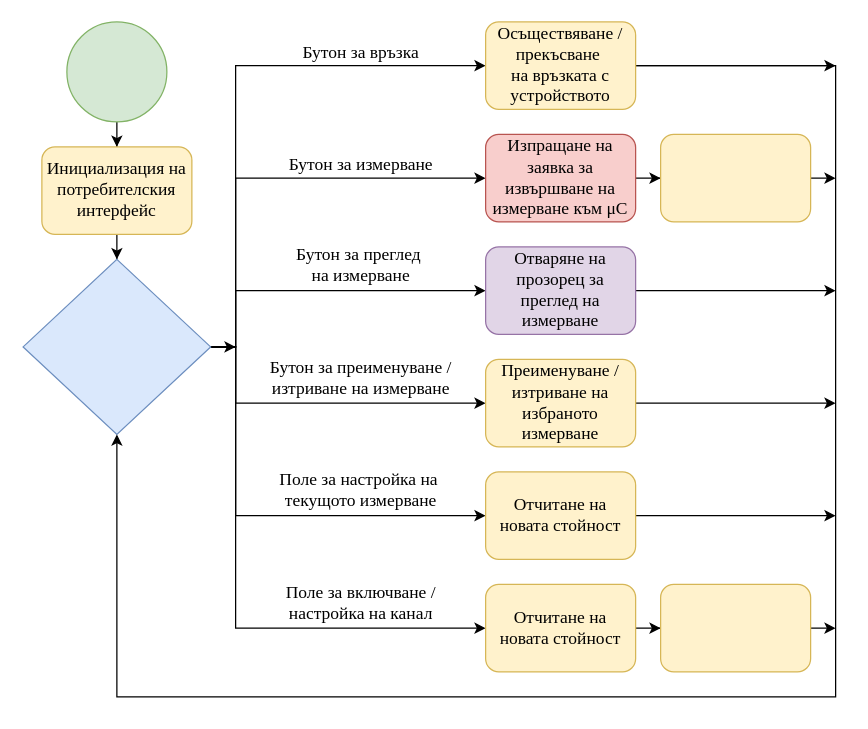
Image size: 868x729. Some labels were removed from this diagram. Here are the shapes that lost their labels. From the top down, the centre of each, then its label:
At point (116, 71): "Начало".
At point (735, 177): "Обработване и записване на получените данни от измерването".
At point (116, 346): "Взаимодействие с елемент от интерфейса?".
At point (735, 627): "Активиране / деактивиране на свързани полета от интерфейса".
